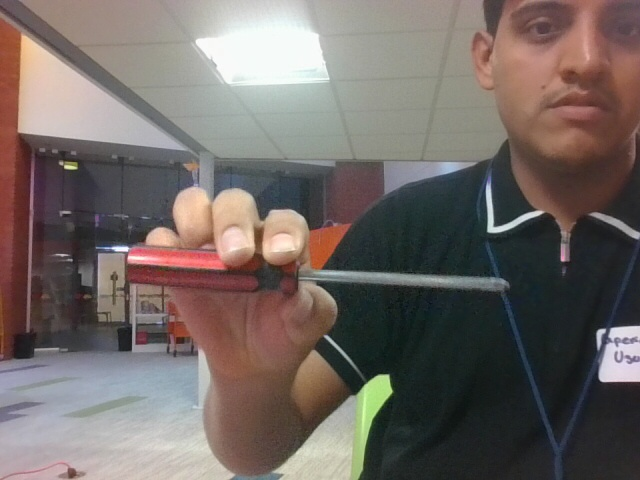destornillador: (128, 245, 504, 300)
